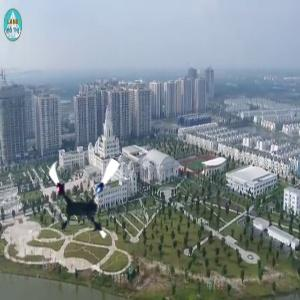drone: (36, 147, 132, 243)
